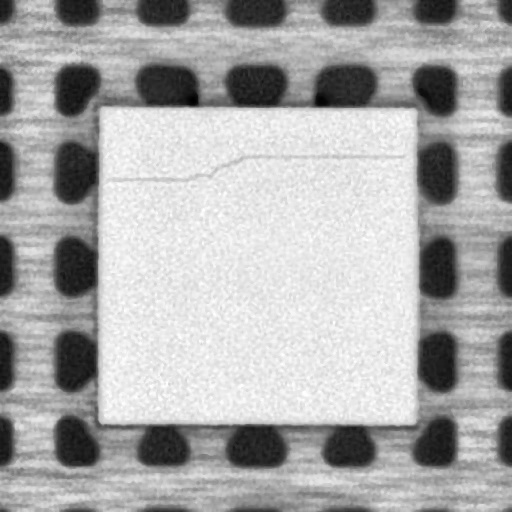DIE_CRACK: (104, 149, 404, 181)
